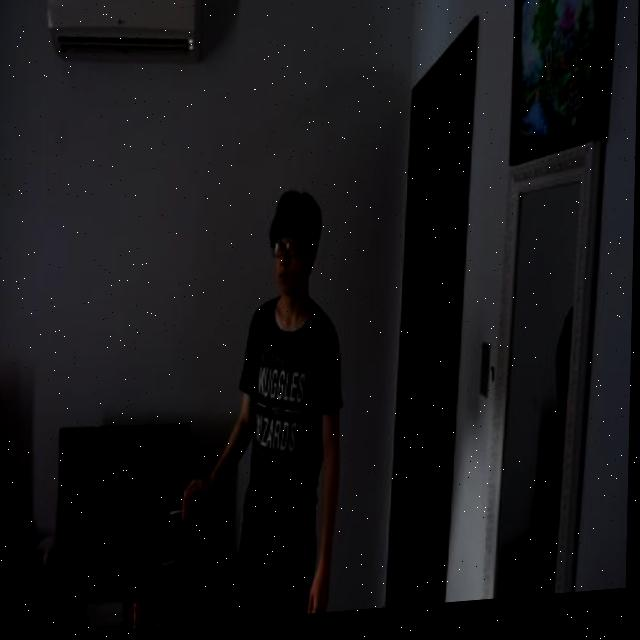cigarette: (172, 512, 185, 520)
